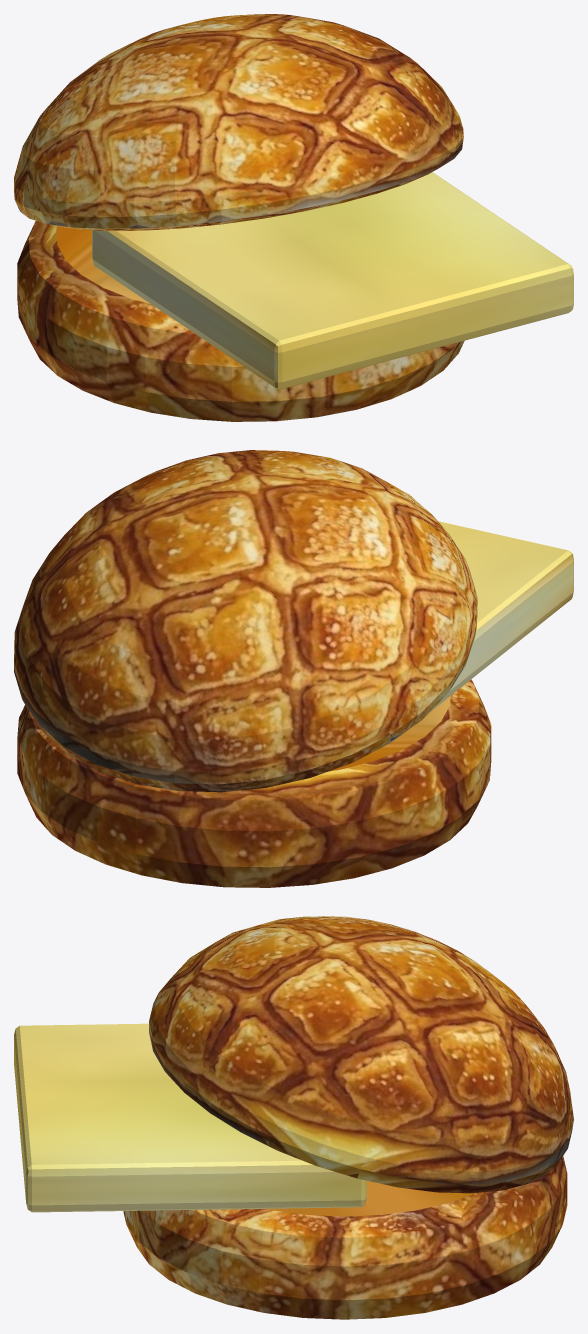
The model's file is 冰火菠蘿油山.fbx.
The picture shows the model from 3 angles, top to bottom: view 1: azimuth 30°, elevation 25°; view 2: azimuth 150°, elevation 25°; view 3: azimuth 270°, elevation 25°; orthographic projection. The views are drawn at different scales.
Parts seen in each view (by area): view 1: Sphere.002; view 2: Sphere.002; view 3: Sphere.002.
Part boxes in pixels (x1,y1,x2,y2): Sphere.002: (14, 14, 573, 421); Sphere.002: (14, 450, 573, 887); Sphere.002: (14, 916, 573, 1319).
Size of the model in its own units: 4940 by 3926 by 2895.
